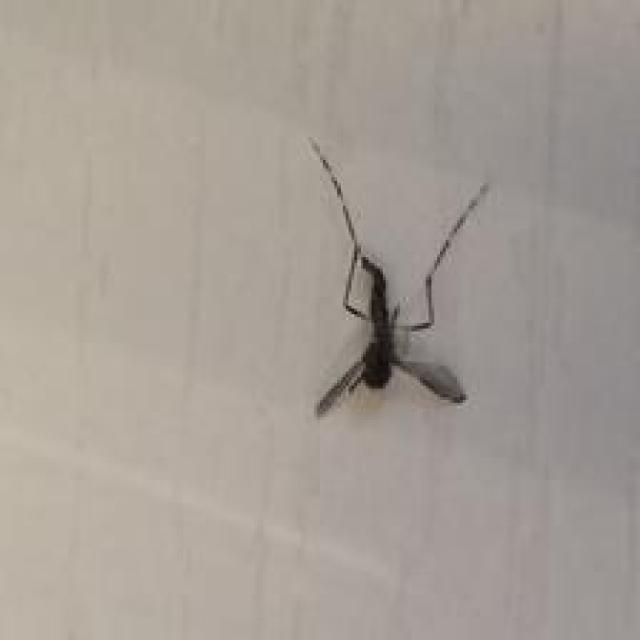Aedes albopictus: (304, 134, 490, 417)
